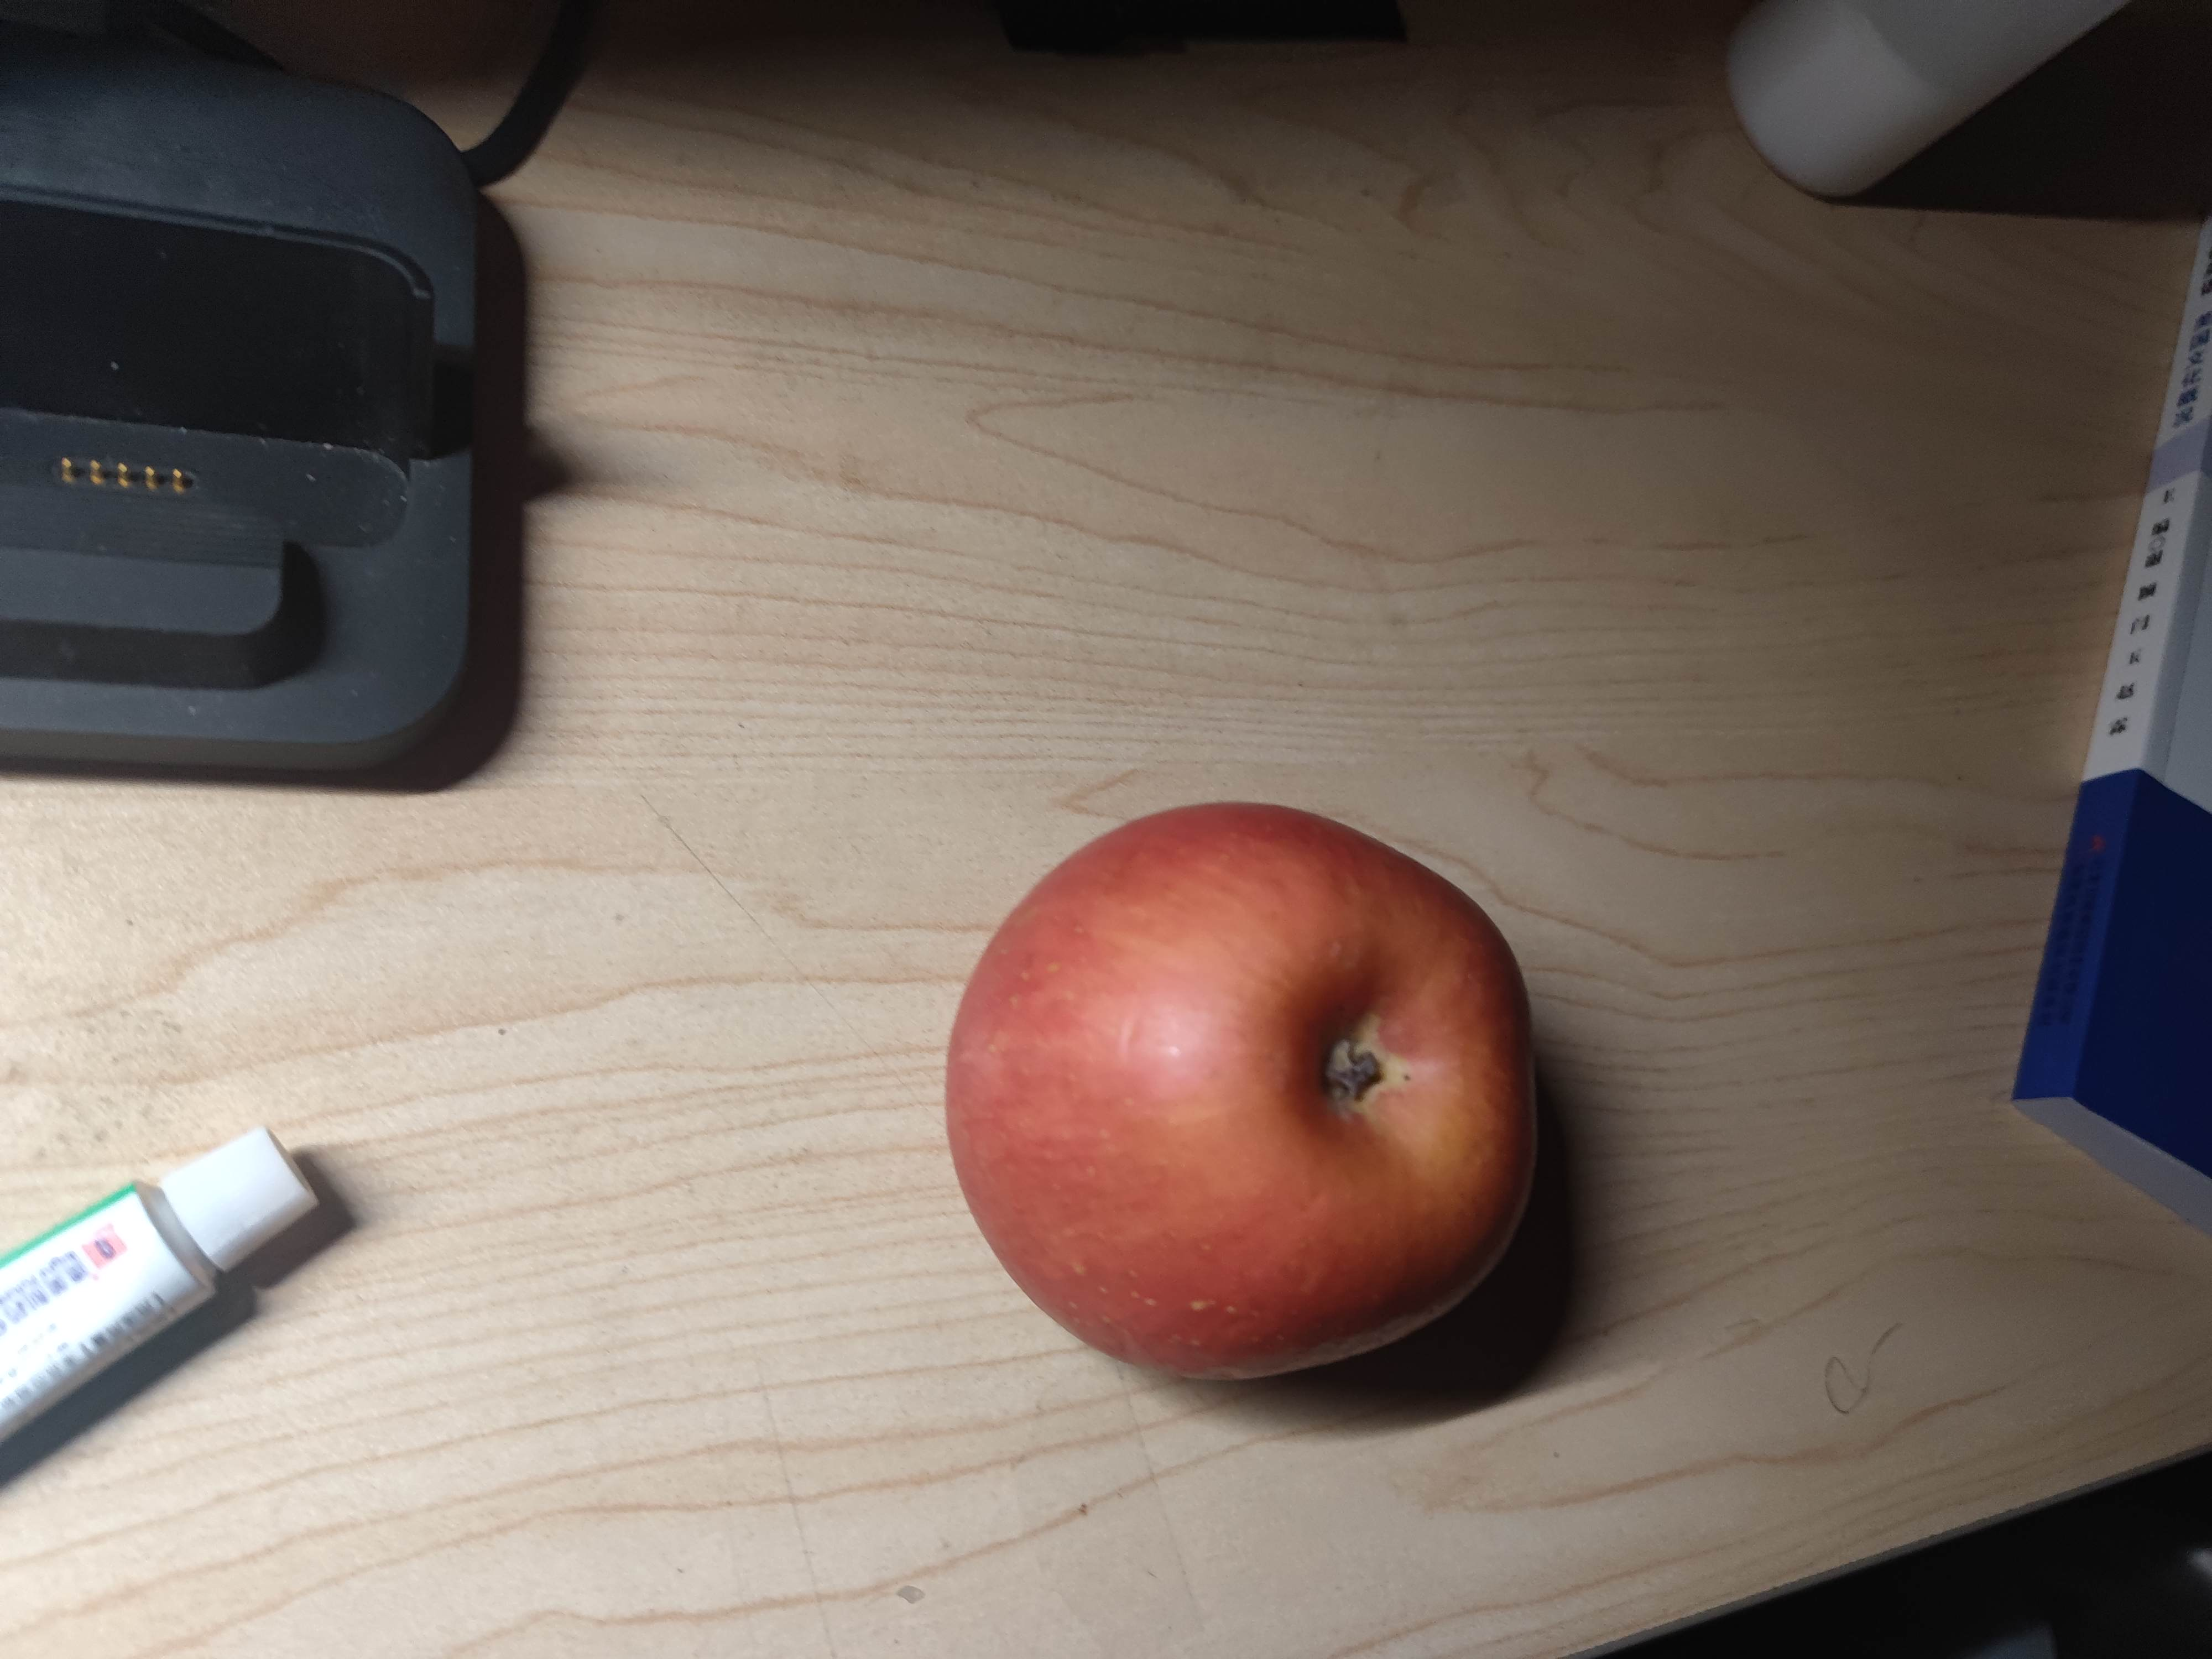apple: (942, 800, 1547, 1382)
